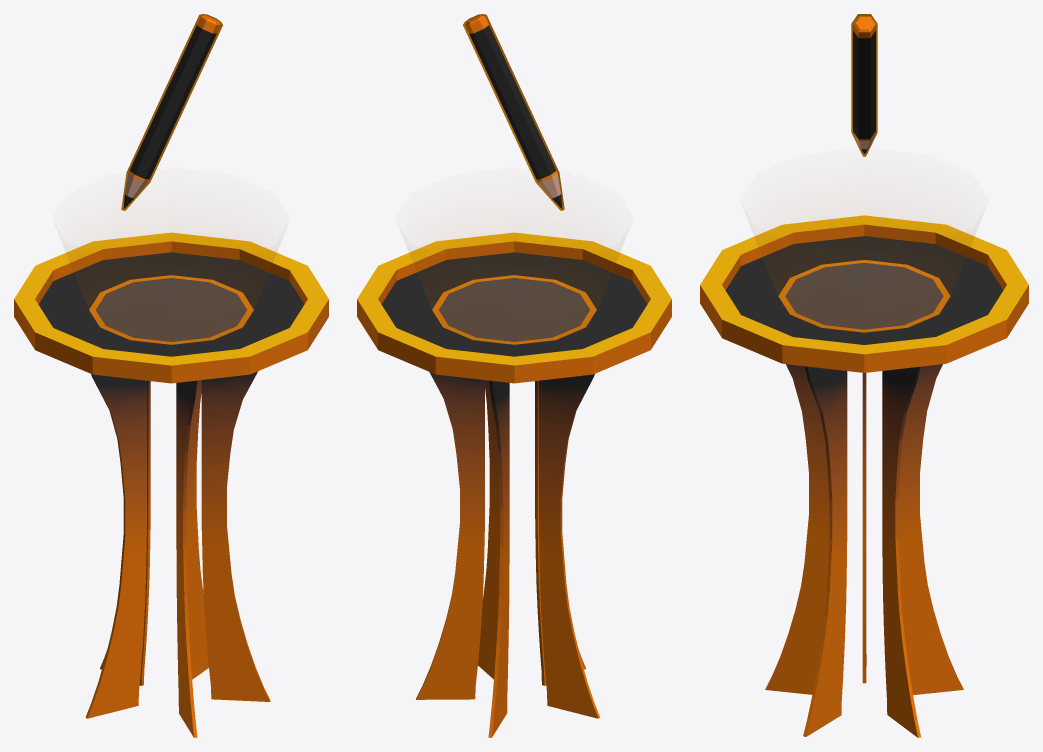
Rendered from message_booth.glb.
The picture shows the model from 3 angles, left to right: view 1: azimuth 30°, elevation 25°; view 2: azimuth 150°, elevation 25°; view 3: azimuth 270°, elevation 25°; orthographic projection. The views are drawn at different scales.
Visible parts, largest first — view 1: message_booth_base, pencil; view 2: message_booth_base, pencil; view 3: message_booth_base, pencil.
Part boxes in pixels (x1,y1,x2,y2): message_booth_base: [14, 232, 328, 737]; pencil: [121, 14, 222, 210]; message_booth_base: [357, 232, 671, 737]; pencil: [463, 14, 564, 210]; message_booth_base: [700, 215, 1028, 737]; pencil: [851, 14, 877, 156].
Size of what is drawn, in the model's own units: 0.8129 by 1.92 by 0.8129.
Materials: 3 (3 with a texture image).
